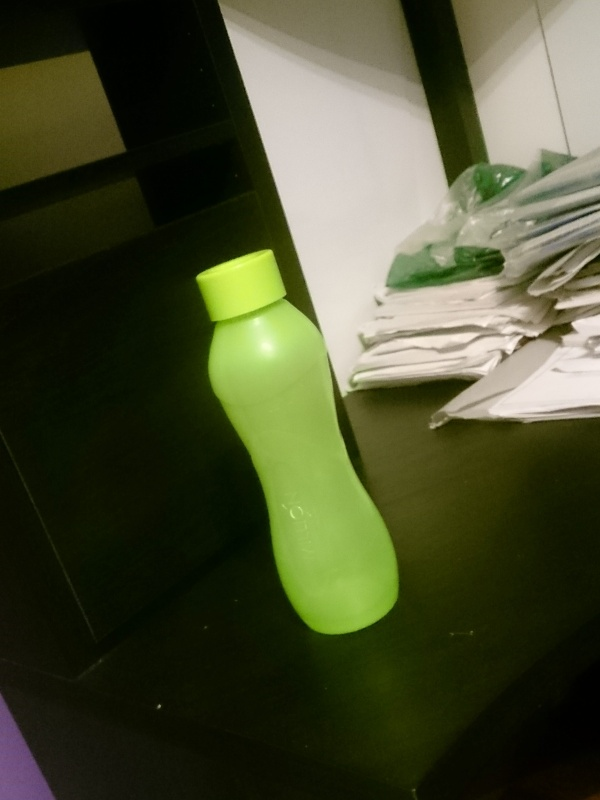my bottle: (195, 250, 402, 635)
